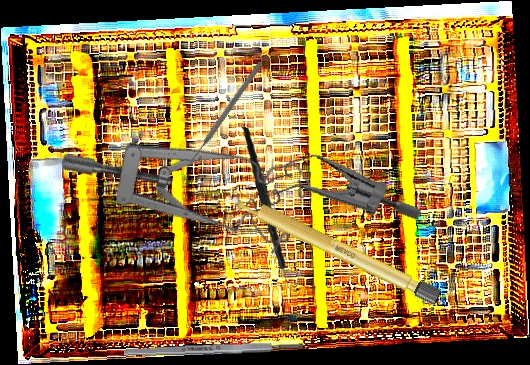Chopper: (227, 127, 316, 294)
Pusher: (184, 60, 264, 170)
Scalpel Handle: (224, 186, 444, 307), (123, 340, 304, 358)
Speculum: (55, 53, 328, 298), (235, 126, 424, 267)
